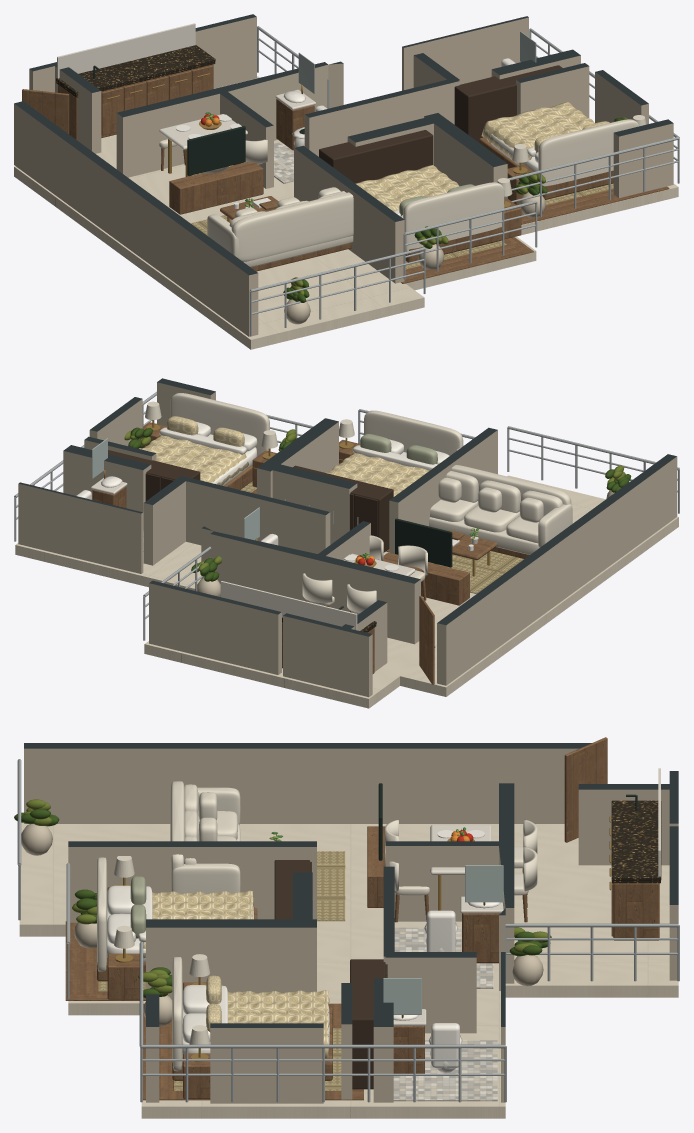
3 renders of one model, top to bottom at view 1: azimuth 30°, elevation 25°; view 2: azimuth 150°, elevation 25°; view 3: azimuth 270°, elevation 25°, orthographic. The views are drawn at different scales.
Visible parts, largest first — view 1: Source-traced internal and perimeter walls • Wall, Continuous apartment foundation, Sofa back, Padded headboard.001, Fitted dark wardrobe.001, Padded headboard, Walnut media console, Fitted dark wardrobe, Backsplash, Soft jacquard duvet with folds, Deep green kitchen stone, Soft jacquard duvet with folds.001 (+22 smaller); view 2: Source-traced internal and perimeter walls • Wall, Continuous apartment foundation, Padded headboard, Soft jacquard duvet with folds, Padded headboard.001, Backsplash, Soft jacquard duvet with folds.001, Television, Walnut media console, Living patterned carpet, Fitted dark wardrobe.001, Sofa lower upholstered frame (+20 smaller); view 3: Source-traced internal and perimeter walls • Wall, Continuous apartment foundation, Bathroom mosaic floor, Deep green kitchen stone, Soft jacquard duvet with folds, Fitted dark wardrobe, Soft jacquard duvet with folds.001, Oak entrance door, Base cabinets, Living patterned carpet, Rounded armrest.001, Balcony top rail (+27 smaller).
Boxes of the visible parts, left/top/right/bottom form: Source-traced internal and perimeter walls • Wall: left=14, top=14, right=673, bottom=336; Continuous apartment foundation: left=14, top=76, right=678, bottom=349; Sofa back: left=231, top=192, right=353, bottom=261; Padded headboard.001: left=403, top=182, right=504, bottom=254; Fitted dark wardrobe.001: left=319, top=130, right=433, bottom=183; Padded headboard: left=538, top=119, right=638, bottom=186; Walnut media console: left=169, top=162, right=263, bottom=214; Fitted dark wardrobe: left=454, top=65, right=562, bottom=142; Backsplash: left=57, top=23, right=195, bottom=78; Soft jacquard duvet with folds: left=481, top=102, right=594, bottom=166; Deep green kitchen stone: left=56, top=45, right=215, bottom=95; Soft jacquard duvet with folds.001: left=355, top=165, right=459, bottom=211; Source-traced internal and perimeter walls • Wall: left=18, top=378, right=677, bottom=697; Continuous apartment foundation: left=15, top=475, right=678, bottom=708; Padded headboard: left=170, top=393, right=269, bottom=456; Soft jacquard duvet with folds: left=141, top=435, right=248, bottom=485; Padded headboard.001: left=364, top=410, right=463, bottom=455; Backsplash: left=220, top=581, right=357, bottom=630; Soft jacquard duvet with folds.001: left=326, top=453, right=429, bottom=496; Television: left=395, top=518, right=452, bottom=567; Walnut media console: left=378, top=552, right=469, bottom=605; Living patterned carpet: left=428, top=551, right=523, bottom=593; Fitted dark wardrobe.001: left=293, top=465, right=393, bottom=552; Sofa lower upholstered frame: left=429, top=517, right=538, bottom=554; Source-traced internal and perimeter walls • Wall: left=24, top=743, right=678, bottom=1103; Continuous apartment foundation: left=19, top=822, right=678, bottom=1118; Bathroom mosaic floor: left=393, top=1040, right=497, bottom=1101; Deep green kitchen stone: left=611, top=800, right=661, bottom=880; Soft jacquard duvet with folds: left=227, top=990, right=329, bottom=1058; Fitted dark wardrobe: left=350, top=959, right=385, bottom=1089; Soft jacquard duvet with folds.001: left=143, top=890, right=253, bottom=958; Oak entrance door: left=564, top=737, right=607, bottom=842; Base cabinets: left=613, top=883, right=659, bottom=940; Living patterned carpet: left=317, top=851, right=345, bottom=921; Rounded armrest.001: left=171, top=863, right=240, bottom=893; Balcony top rail: left=141, top=1044, right=505, bottom=1048.
Bounding box in the file's own units: 9.15 × 1.7 × 8.96.
Materials: 26 (6 with a texture image).
